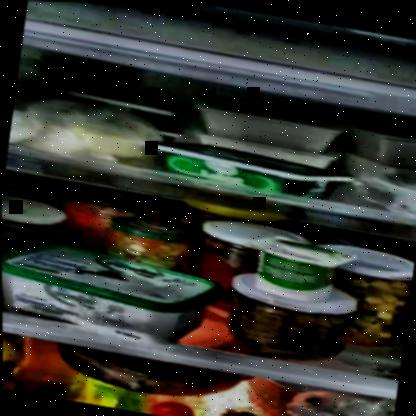cheese: (1, 237, 212, 347)
cream_cheese: (148, 134, 336, 198), (67, 82, 179, 126)
tomato: (153, 397, 272, 415)
yoghurt: (240, 233, 342, 303)
